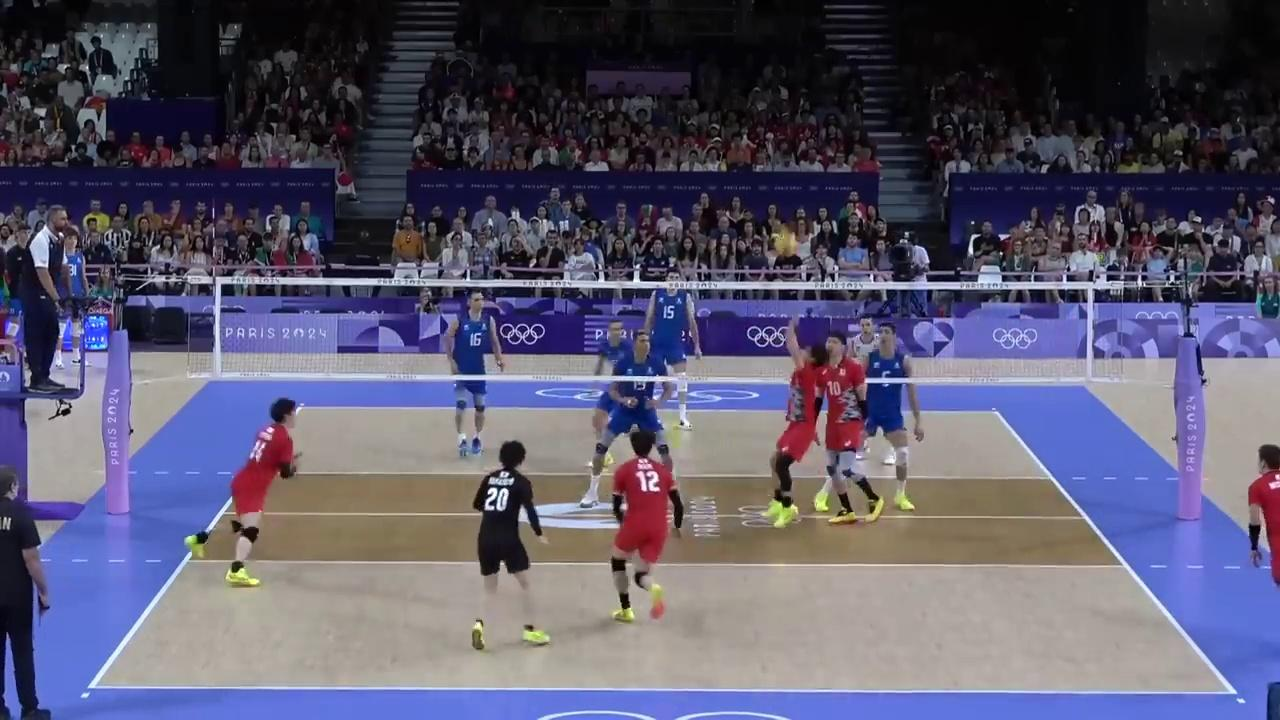ball: (774, 232, 797, 257)
